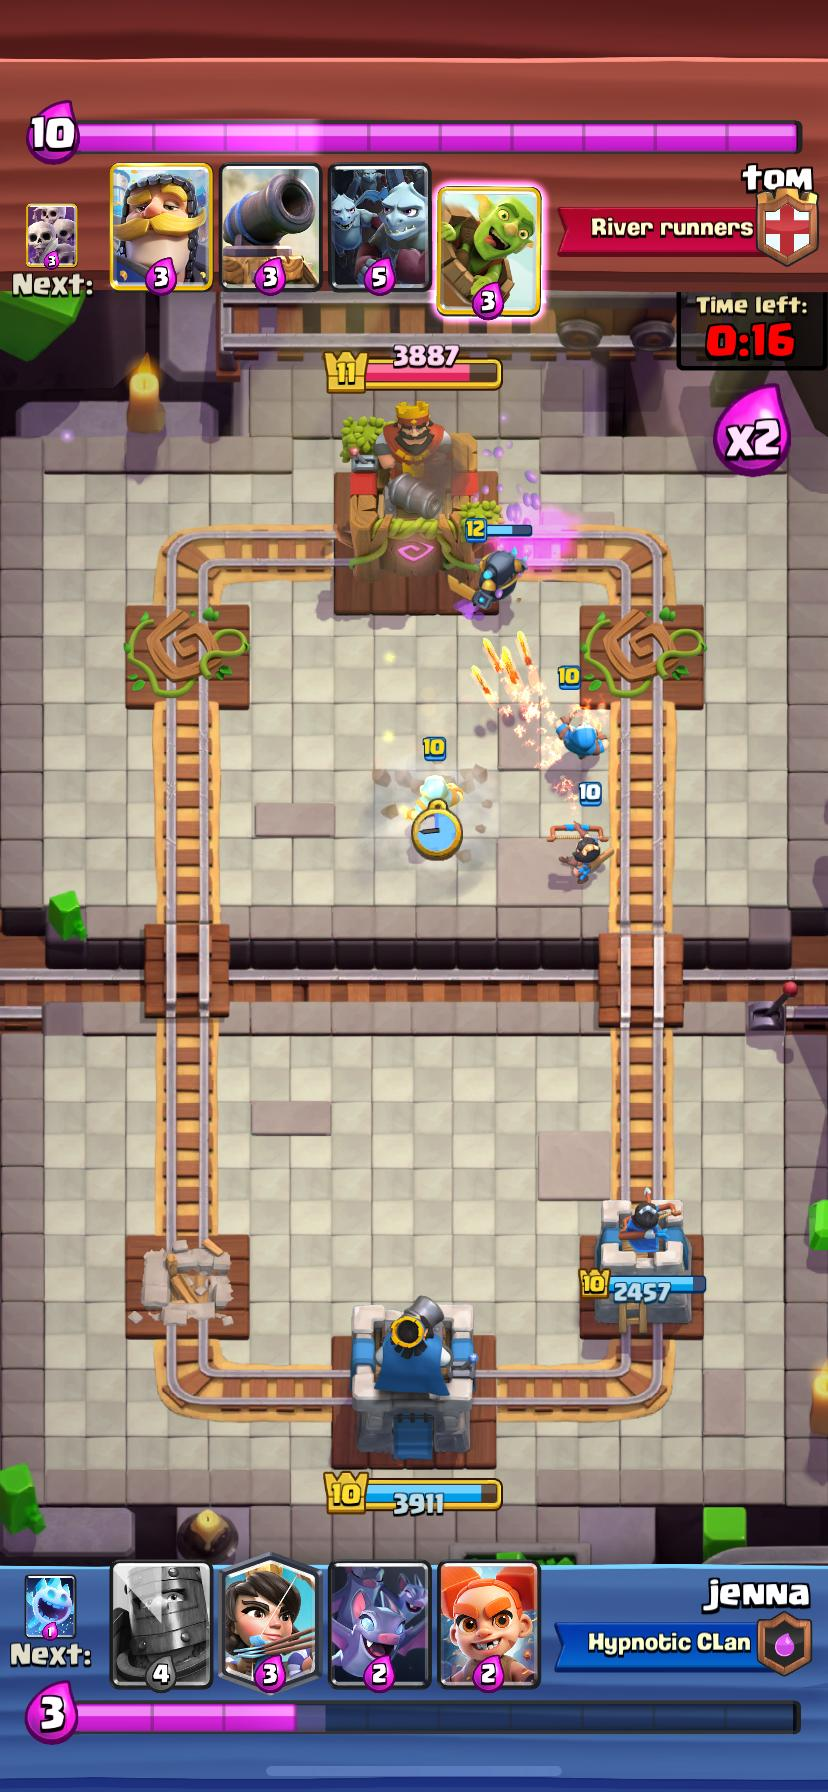EKingTower: (340, 401, 479, 571)
OFireWizard: (406, 776, 463, 821), (558, 717, 604, 761)
OMiniPekka: (472, 550, 526, 614)
OPrincess: (549, 821, 613, 886)
OwnKingTower: (351, 1296, 477, 1461)
OwnPrincessTower: (583, 1200, 704, 1323)
TowerDown: (121, 1233, 250, 1336), (580, 606, 709, 705), (126, 606, 250, 707)
